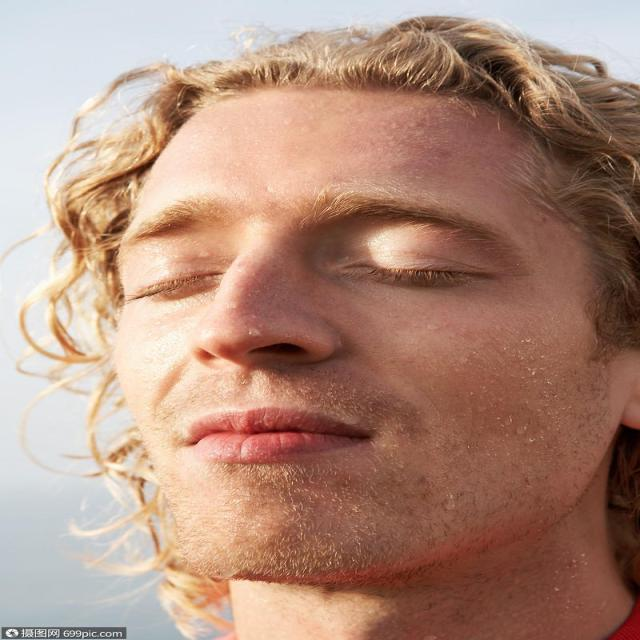Closed: (334, 248, 490, 290), (115, 257, 232, 312)
